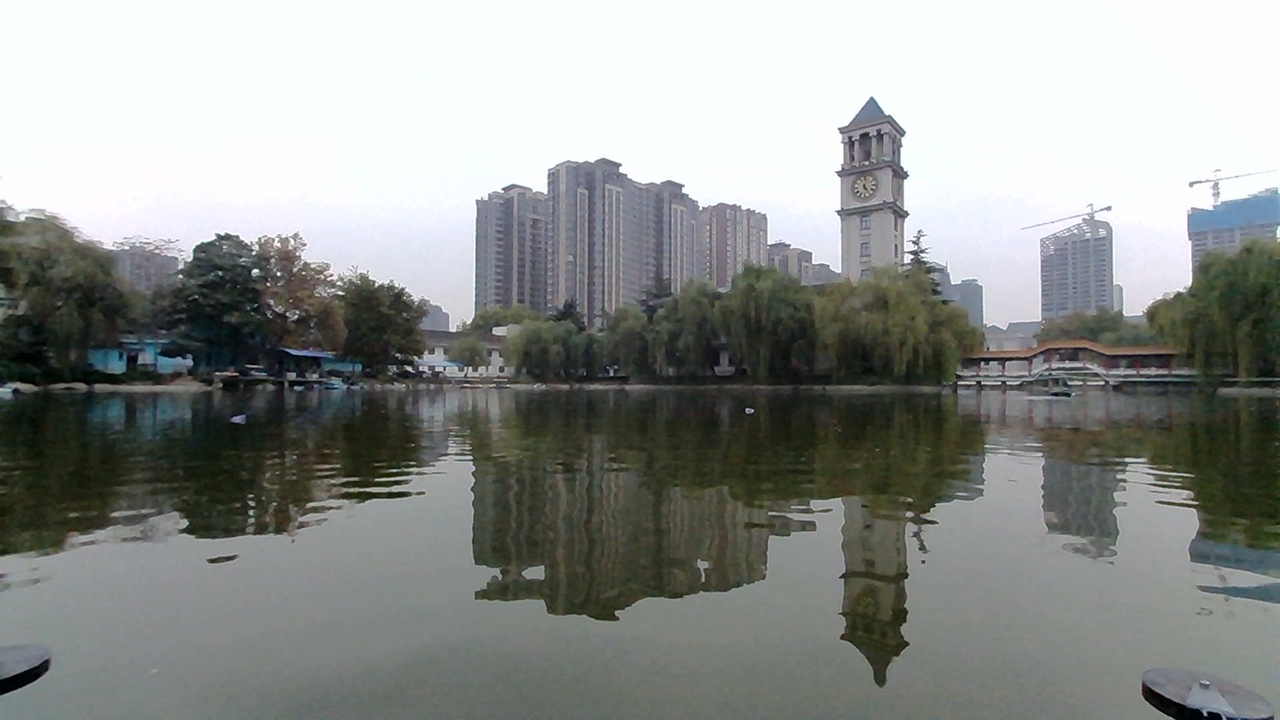bottle: (214, 400, 263, 437), (730, 393, 773, 422)
